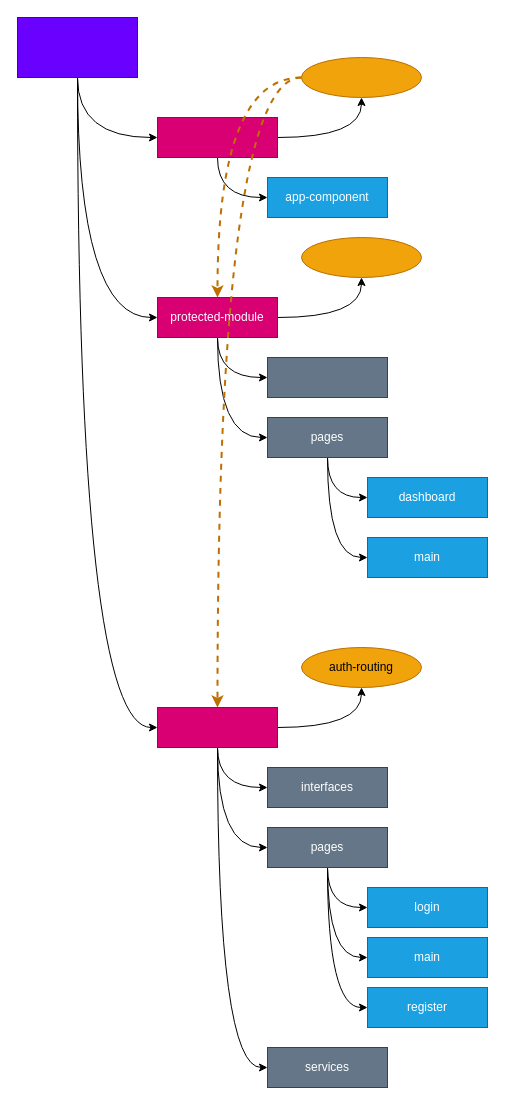
The diagram is 505 pixels wide and 1105 high, and some of its shapes have lost their labels. The box of each missing label's shape, as (x1, y1, x2, y2) in pixels:
app: (16, 16, 138, 78)
app-module: (156, 116, 278, 158)
app-routing: (300, 56, 422, 98)
auth-module: (156, 706, 278, 748)
dashed: (266, 356, 388, 398)
protected-routing: (300, 236, 422, 278)
